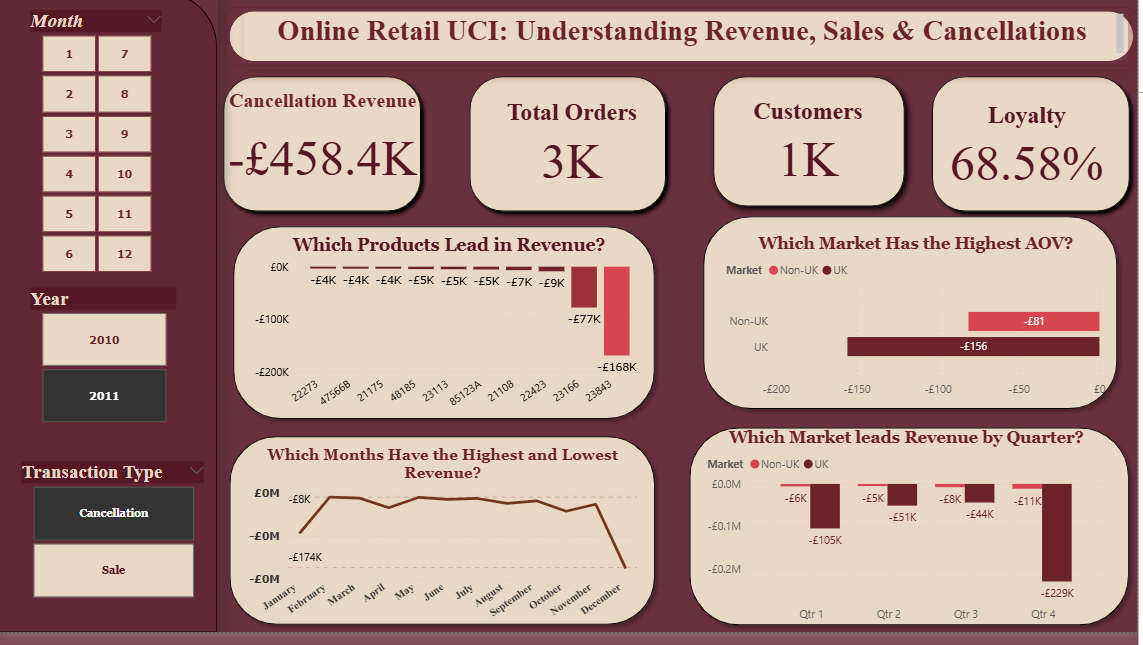

What the dashboard file says about the page in this screenshot:
{"tool":"powerbi","page":{"name":"Page 1","canvas":[1280,720],"ordinal":0},"visuals":[{"type":"shape","box":[254.4,16.9,1025.9,66.1],"z":0},{"type":"shape","box":[254.4,254.4,491.9,234.7],"z":1000},{"type":"shape","box":[768,480.4,512,240.2],"z":2000},{"type":"shape","box":[520,85.7,238.9,170],"z":3000},{"type":"shape","box":[791.2,82.9,238.9,170],"z":4000},{"type":"shape","box":[243.1,85.7,240.3,170],"z":5000},{"type":"shape","box":[0,0,245.1,720],"z":6000},{"type":"cardVisual","fields":{"Data":["sales online_retail.revenue"]},"box":[238.9,109.6,250.2,127.9],"z":7000},{"type":"slicer","fields":{"Values":["sales online_retail.Month"]},"box":[22.5,15.5,172.9,306.4],"z":8000},{"type":"slicer","fields":{"Values":["sales online_retail.Year"]},"box":[22.5,327.4,189.7,163],"z":9000},{"type":"slicer","fields":{"Values":["sales online_retail.Transaction Type"]},"box":[12.6,522.8,230.5,164.4],"z":10000},{"type":"cardVisual","fields":{"Data":["sales online_retail.Total Orders"]},"box":[520,104,248.7,127.9],"z":11000},{"type":"cardVisual","fields":{"Data":["sales online_retail.Customers"]},"box":[785.6,102.6,248.7,129.3],"z":12000},{"type":"columnChart","title":"Which Products Lead in Revenue?","fields":{"Category":["sales online_retail.StockCode"],"Y":["sales online_retail.Top 5 Dynamic Revenue"]},"box":[282.5,272.6,446.9,215],"z":13000},{"type":"shape","box":[1040,85.7,240.3,170],"z":14000},{"type":"cardVisual","fields":{"Data":["sales online_retail.Repeat Customer Rate"]},"box":[1031.5,106.8,248.7,130.7],"z":15000},{"type":"shape","box":[250.7,491,496.2,229.7],"z":16000},{"type":"lineChart","title":"Which Months Have the Highest and Lowest Revenue?","fields":{"Y":["sales online_retail.revenue"],"Category":["sales online_retail.InvoiceDate.Variation.Date Hierarchy.Month"]},"box":[275.3,510.2,447.1,208.7],"z":17000},{"type":"shape","box":[782.8,243.1,483.4,234.7],"z":18000},{"type":"barChart","title":"Which Market Has the Highest AOV?","fields":{"Category":["sales online_retail.Market"],"Y":["sales online_retail.AOV"],"Series":["sales online_retail.Market"]},"box":[812.3,272.6,437.1,192.5],"z":19000},{"type":"clusteredColumnChart","title":"Which Market leads Revenue by Quarter?","fields":{"Y":["sales online_retail.revenue"],"Series":["sales online_retail.Market"],"Category":["sales online_retail.InvoiceDate.Variation.Date Hierarchy.Quarter"]},"box":[790.8,491,457.6,227.9],"z":20000},{"type":"textbox","box":[275.3,19.3,994.2,66.6],"z":21000}]}

Visuals, with their boxes in screenshot pixels (x1, y1, x2, y2), scaled from the page's 1280x720 canvas onto the 1143x645 screenshot:
shape: [227,15,1142,74]
shape: [227,228,666,438]
shape: [686,430,1142,644]
shape: [464,77,678,229]
shape: [707,74,920,227]
shape: [217,77,432,229]
shape: [0,0,219,644]
cardVisual - sales online_retail.revenue: [213,98,437,213]
slicer - sales online_retail.Month: [20,14,174,288]
slicer - sales online_retail.Year: [20,293,189,439]
slicer - sales online_retail.Transaction Type: [11,468,217,616]
cardVisual - sales online_retail.Total Orders: [464,93,686,208]
cardVisual - sales online_retail.Customers: [702,92,924,208]
"Which Products Lead in Revenue?" columnChart: [252,244,651,437]
shape: [929,77,1142,229]
cardVisual - sales online_retail.Repeat Customer Rate: [921,96,1142,213]
shape: [224,440,667,644]
"Which Months Have the Highest and Lowest Revenue?" lineChart: [246,457,645,644]
shape: [699,218,1131,428]
"Which Market Has the Highest AOV?" barChart: [725,244,1116,417]
"Which Market leads Revenue by Quarter?" clusteredColumnChart: [706,440,1115,644]
textbox: [246,17,1134,77]
